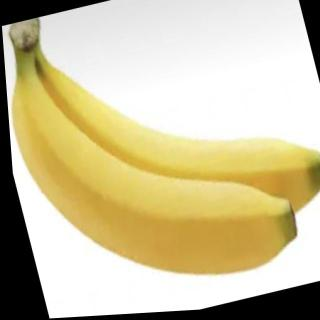banana: (2, 23, 306, 319), (21, 9, 320, 284)
